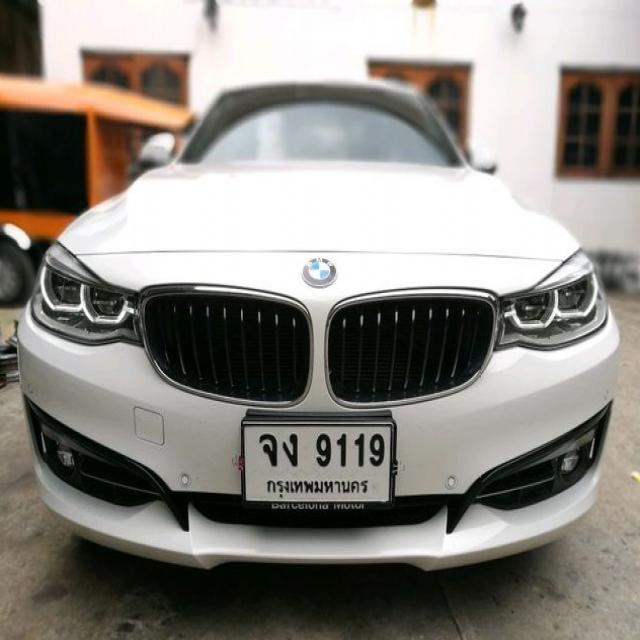license_plate: (238, 415, 395, 513)
